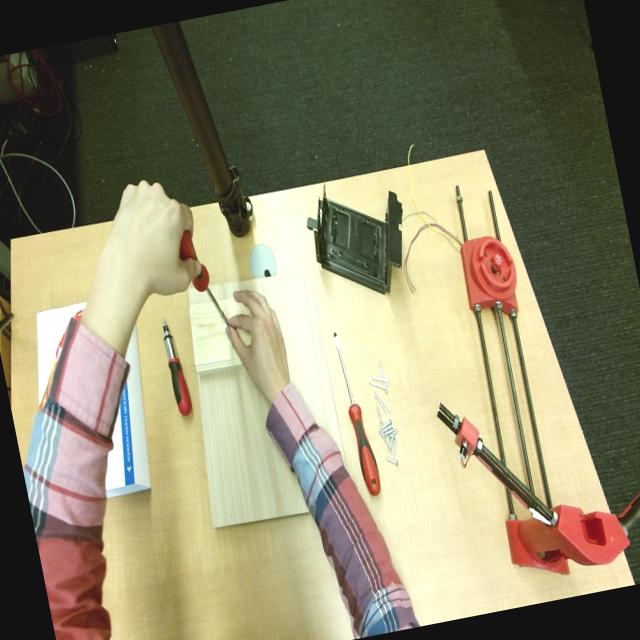screwdriver: (333, 334, 381, 495), (180, 229, 230, 327), (163, 320, 192, 417)
